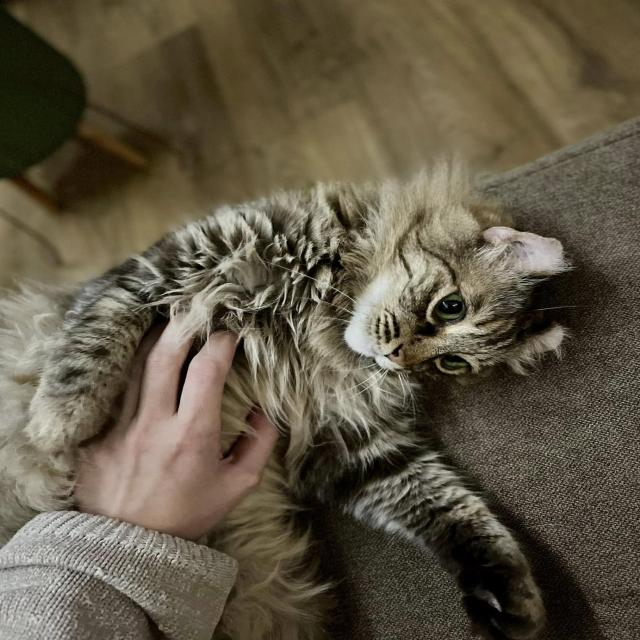American Curl: (0, 152, 579, 640)
